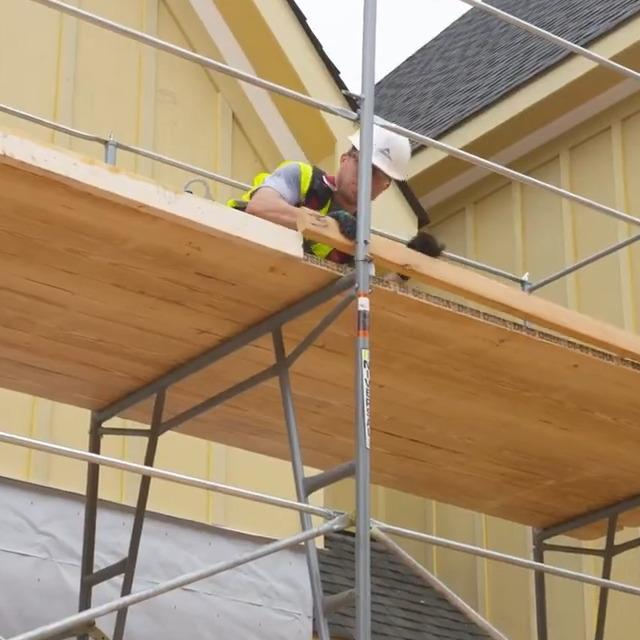Hardhat: (349, 122, 412, 182)
NO-Mask: (339, 156, 378, 207)
Person: (231, 116, 414, 265)
Safety Vest: (229, 158, 353, 264)
